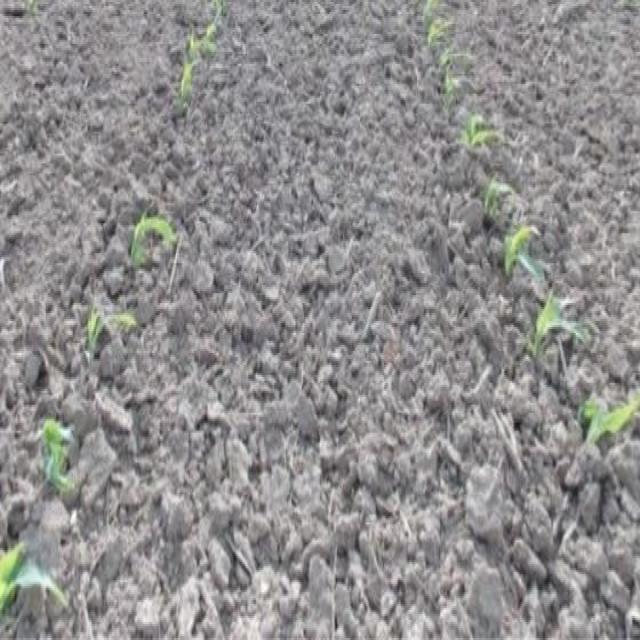row: (8, 0, 638, 640), (452, 0, 640, 407)
